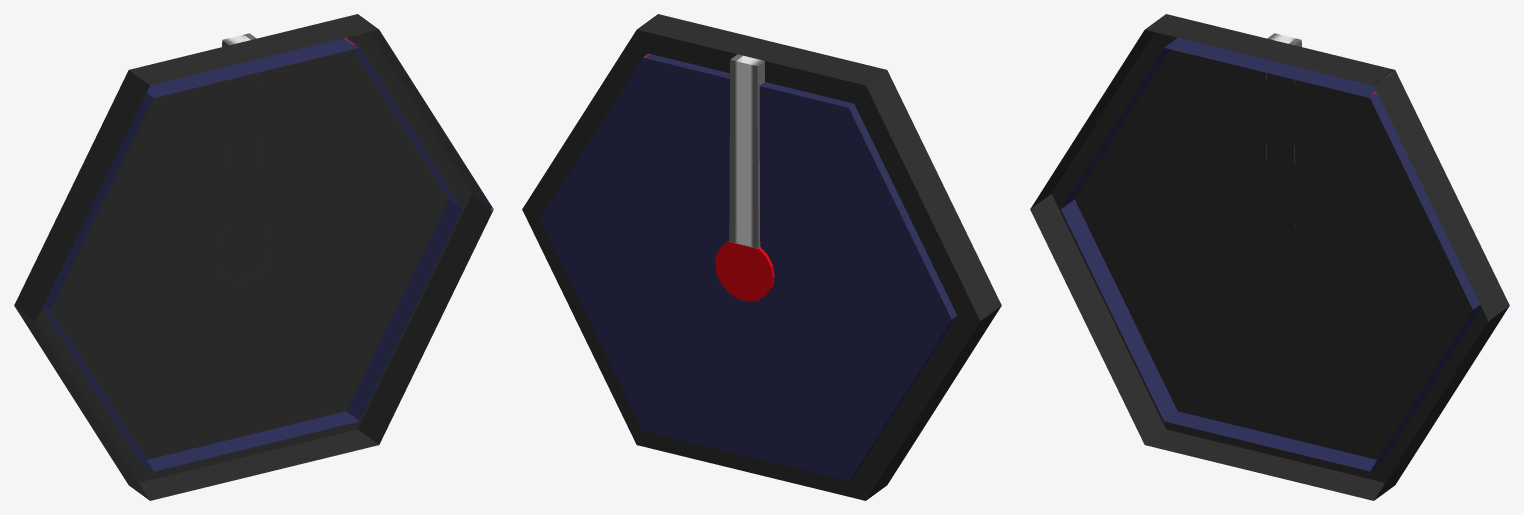
The model's file is Hexagons End 1 Trail.fbx.
3 renders of one model, left to right at view 1: azimuth 30°, elevation 25°; view 2: azimuth 150°, elevation 25°; view 3: azimuth 330°, elevation 25°, orthographic.
Parts seen in each view (by area): view 1: Cylinder.052; view 2: Cylinder.052; view 3: Cylinder.052.
Boxes of the visible parts, x1,y1,x2,y2 form: Cylinder.052: [14, 14, 493, 500]; Cylinder.052: [522, 14, 1001, 500]; Cylinder.052: [1030, 14, 1509, 500].
Size of the model in its own units: 14 by 12.12 by 1.53.
Materials: 1 (1 with a texture image).
